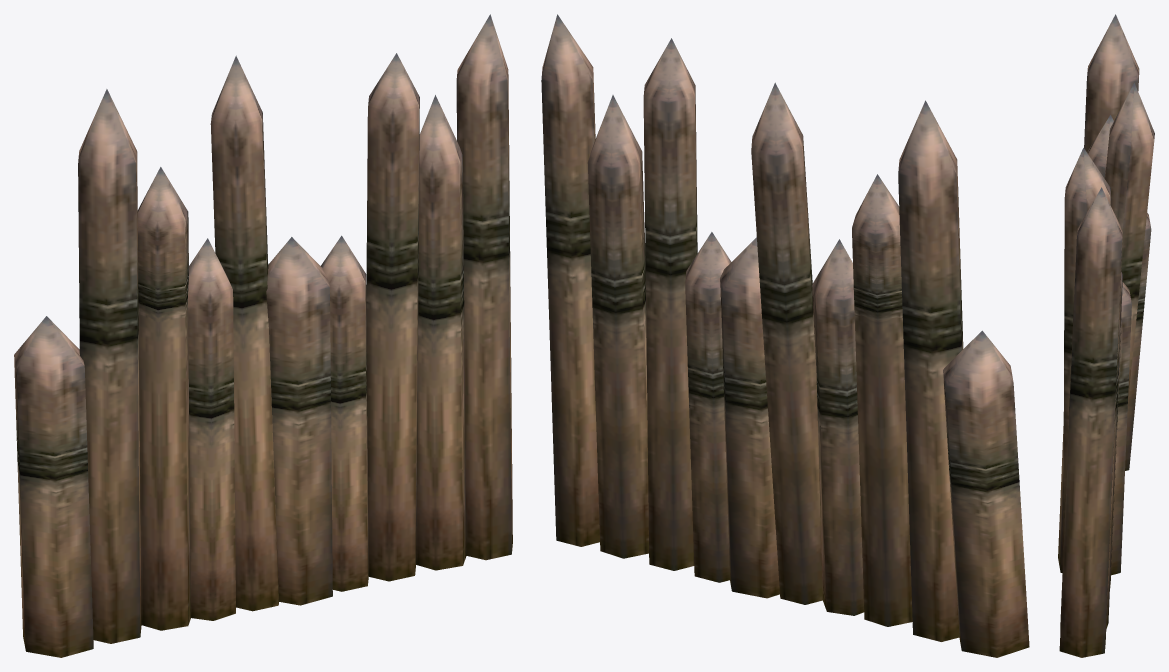
The model's file is weilan03.FBX.
3 renders of one model, left to right at view 1: azimuth 30°, elevation 25°; view 2: azimuth 150°, elevation 25°; view 3: azimuth 270°, elevation 25°, orthographic. The views are drawn at different scales.
Parts seen in each view (by area): view 1: wenlan03; view 2: wenlan03; view 3: wenlan03.
Part boxes in pixels (box(x1,y1,x2,y2)): wenlan03: box(14, 14, 512, 657); wenlan03: box(541, 14, 1029, 657); wenlan03: box(1058, 14, 1154, 657).
Bounding box in the file's own units: 317 × 335 × 61.68.
